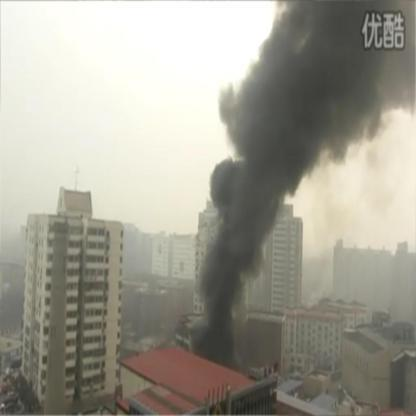smoke: (222, 84, 346, 163), (245, 28, 414, 84), (208, 162, 280, 250), (198, 252, 241, 310), (275, 0, 365, 26), (192, 312, 236, 362), (348, 85, 379, 146), (380, 84, 414, 112), (281, 161, 304, 201)
